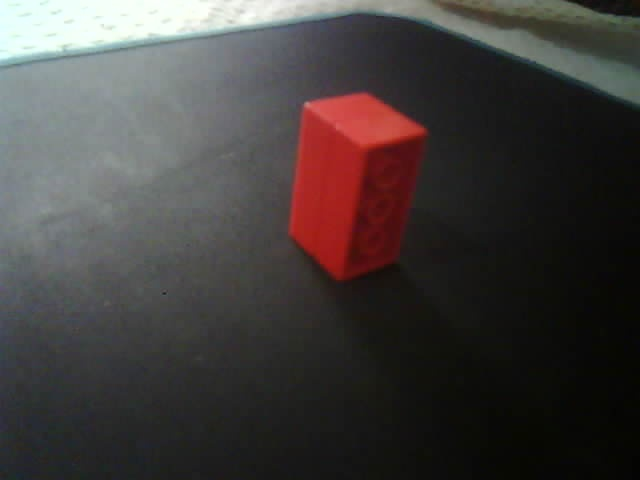lego: (287, 91, 428, 284)
